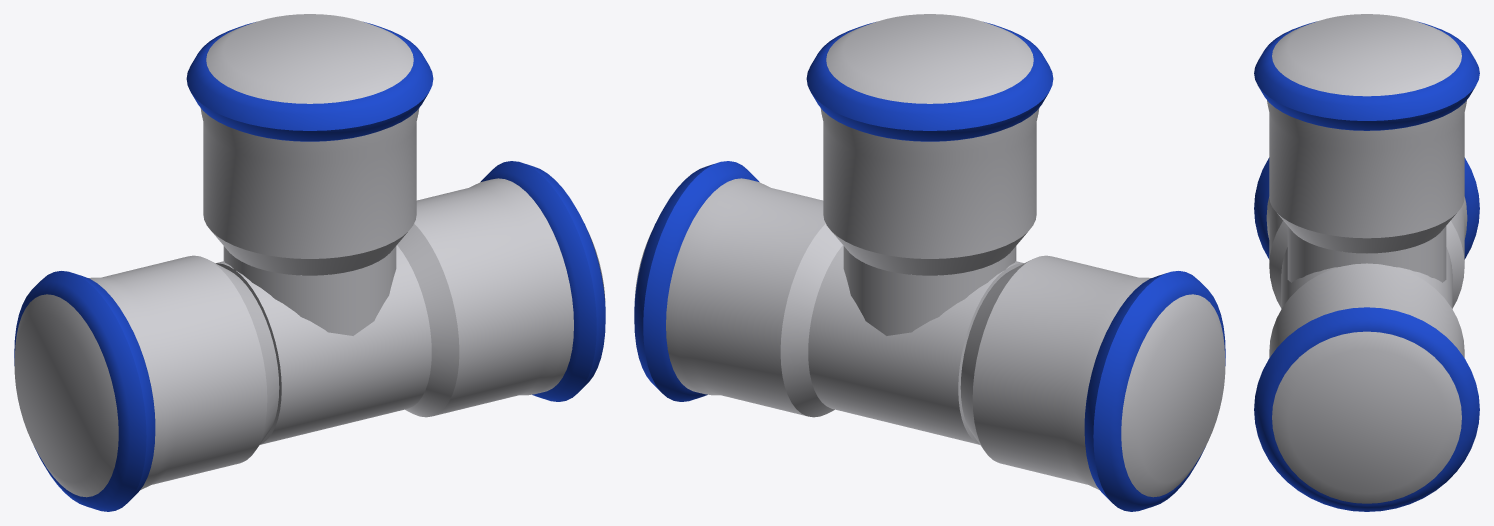
Rendered from fitting_tee_22.glb.
3 views of the same model, side by side, from view 1: azimuth 30°, elevation 25°; view 2: azimuth 150°, elevation 25°; view 3: azimuth 270°, elevation 25° (orthographic). The views are drawn at different scales.
Parts seen in each view (by area): view 1: раструб.002, раструб.001, раструб, узел, кольцо пресс.001, кольцо пресс.002, кольцо пресс, корпус.001; view 2: раструб.002, раструб.001, раструб, узел, кольцо пресс.001, кольцо пресс.002, кольцо пресс, корпус.001; view 3: раструб.002, раструб, кольцо пресс, кольцо пресс.002, корпус.001, раструб.001, кольцо пресс.001, узел.
Boxes of the visible parts, x1,y1,x2,y2 form: раструб.002: (200,14,419,275); раструб.001: (14,255,279,497); раструб: (397,178,605,417); узел: (216,245,431,444); кольцо пресс.001: (14,271,155,511); кольцо пресс.002: (186,22,433,141); кольцо пресс: (480,161,605,401); корпус.001: (223,246,396,335); раструб.002: (820,14,1039,275); раструб.001: (960,255,1225,497); раструб: (634,178,842,417); узел: (808,245,1023,444); кольцо пресс.001: (1084,271,1225,511); кольцо пресс.002: (806,22,1053,141); кольцо пресс: (634,161,759,401); корпус.001: (843,246,1016,335); раструб.002: (1267,14,1466,253); раструб: (1269,263,1464,503); кольцо пресс: (1254,307,1479,511); кольцо пресс.002: (1254,21,1479,130); корпус.001: (1287,226,1446,282); раструб.001: (1266,197,1467,307); кольцо пресс.001: (1254,157,1479,259); узел: (1281,247,1452,308).
Bounding box in the file's own units: 0.084 × 0.0633 × 0.0356.
